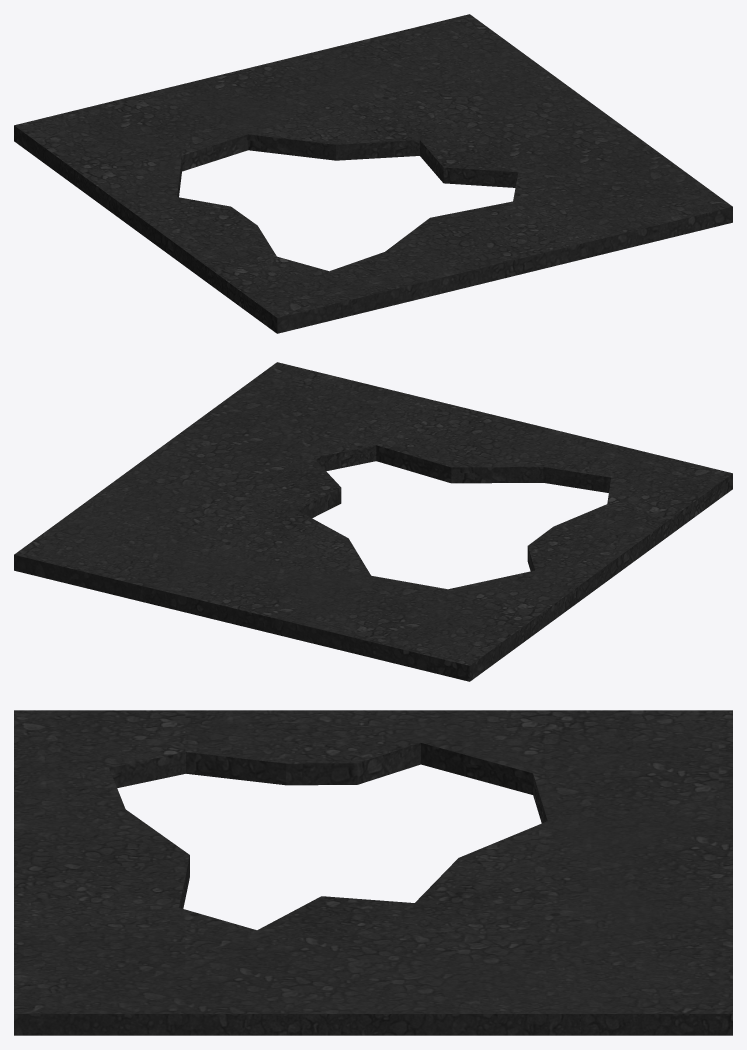
Rendered from roof02_middle_destroyed02.fbx.
3 views of the same model, one above another, from view 1: azimuth 30°, elevation 25°; view 2: azimuth 150°, elevation 25°; view 3: azimuth 270°, elevation 25° (orthographic). The views are drawn at different scales.
Visible parts, largest first — view 1: roof02_middle_destroyed02; view 2: roof02_middle_destroyed02; view 3: roof02_middle_destroyed02.
Part boxes in pixels (x1,y1,x2,y2): roof02_middle_destroyed02: [14, 14, 732, 333]; roof02_middle_destroyed02: [14, 362, 732, 681]; roof02_middle_destroyed02: [14, 710, 732, 1035].
Bounding box in the file's own units: 300 × 10 × 300.
